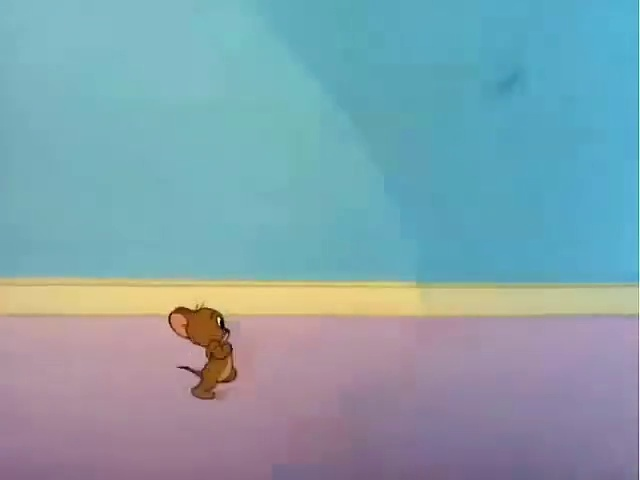jerry: (160, 283, 283, 416), (165, 287, 266, 407)
